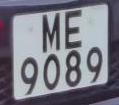0: (39, 51, 65, 92)
8: (63, 48, 84, 90)
9: (18, 50, 42, 98), (84, 43, 105, 89)
E: (62, 8, 87, 54)
M: (39, 10, 64, 56)
